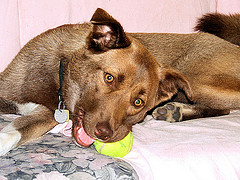tennis ball: (94, 129, 134, 156)
